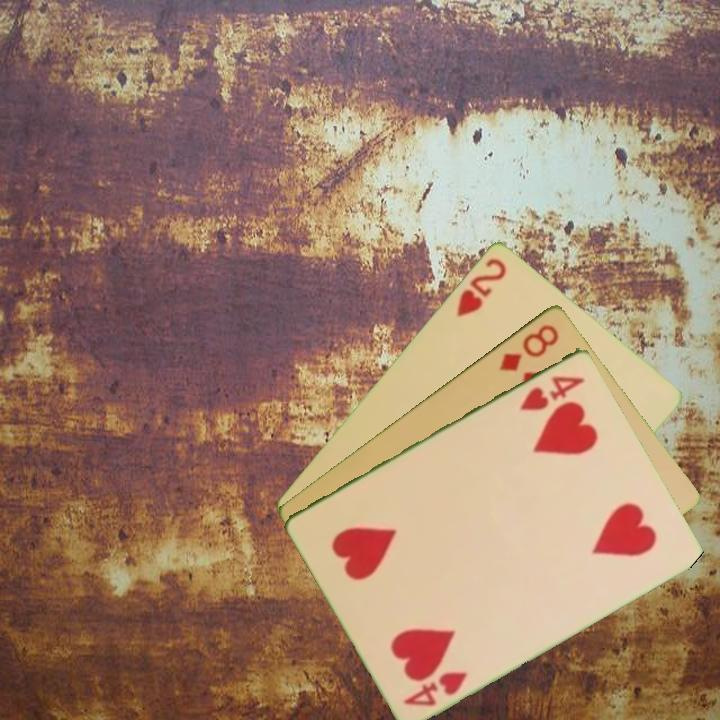2h: (452, 253, 510, 319)
4h: (516, 371, 588, 414), (399, 667, 471, 709)
8d: (495, 320, 562, 374)
